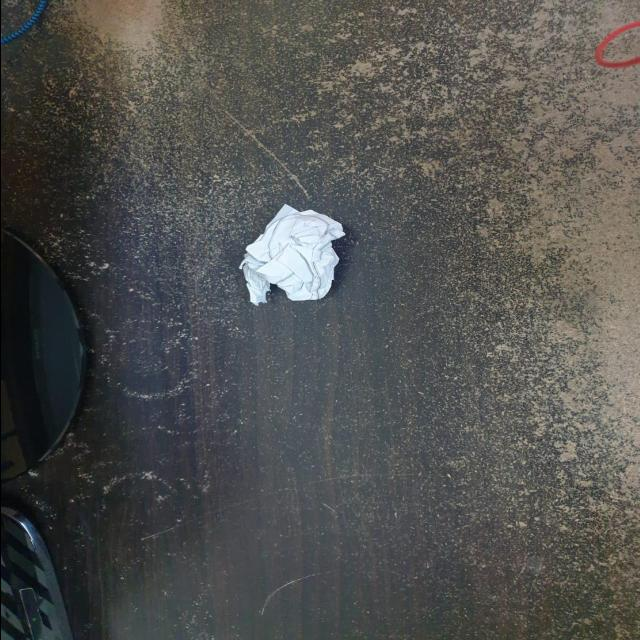kertas: (235, 198, 351, 309)
